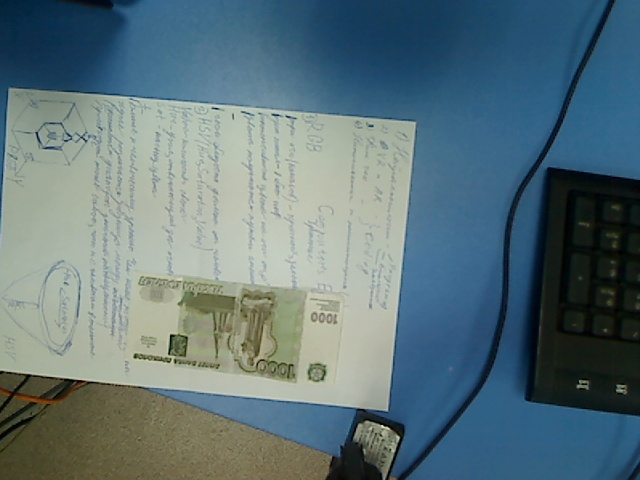banknotes: (127, 270, 341, 387)
